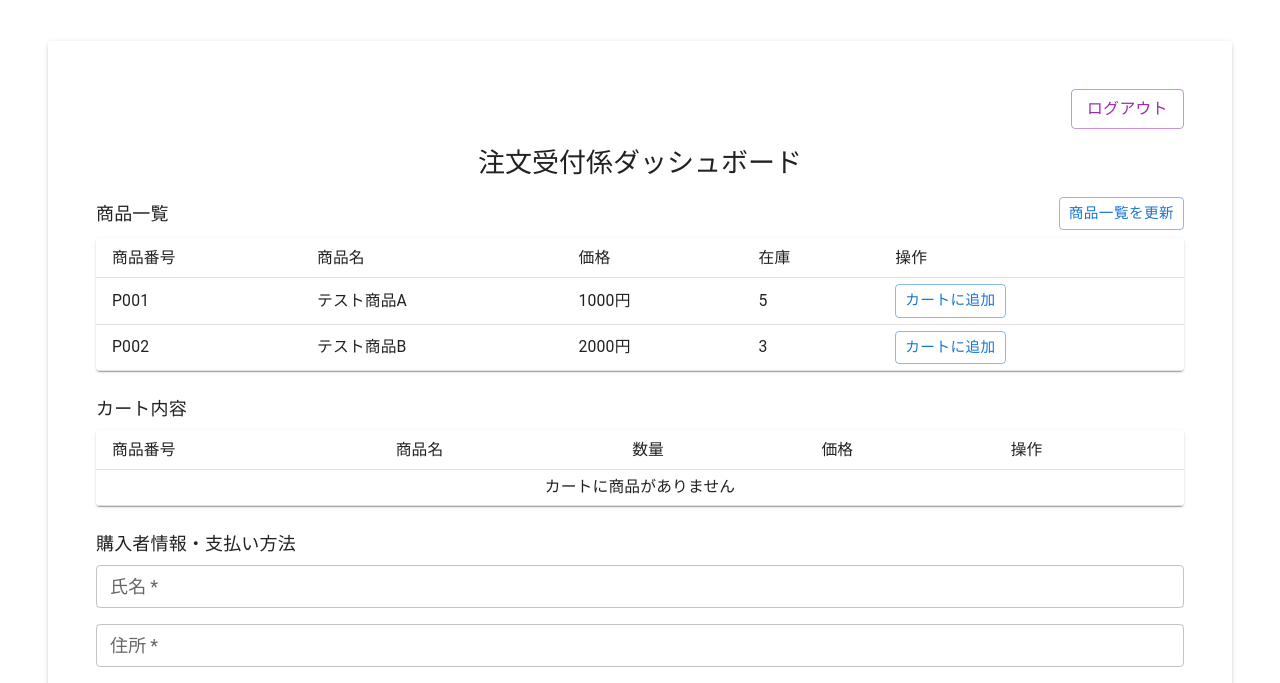
Test: OrderTakerDashboard › 必須項目未入力で注文確定するとエラー表示
expect the text "商品一覧" is shown: met, box [96,203,169,224]
expect the text "テスト商品A" is shown: met, box [301,278,562,324]
Click the button "カートに追加" in the row of "P001".
click(950, 301)  # box [895,284,1006,318]
(page scrolled)
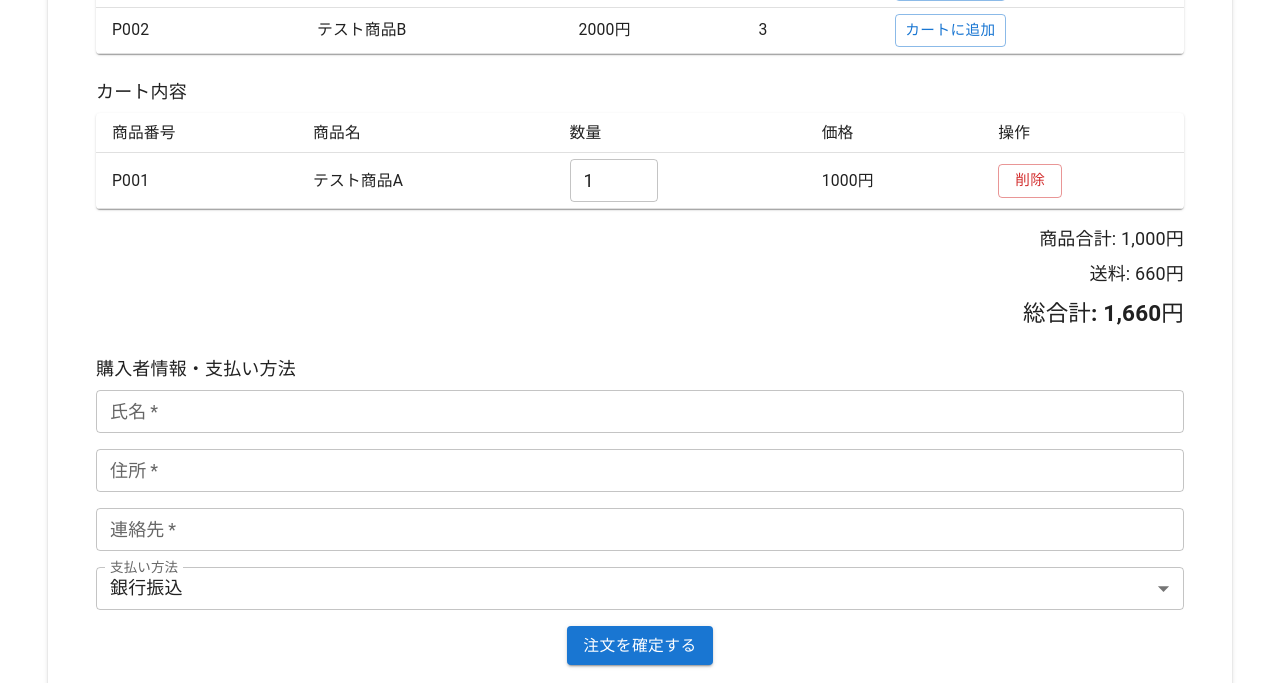
expect the text "購入者情報・支払い方法" is shown: met, box [96,358,296,379]
# 注文確定ボタンをクリック（購入者情報未入力）
Click the button "注文を確定する".
click(640, 646)  # box [567,626,713,665]
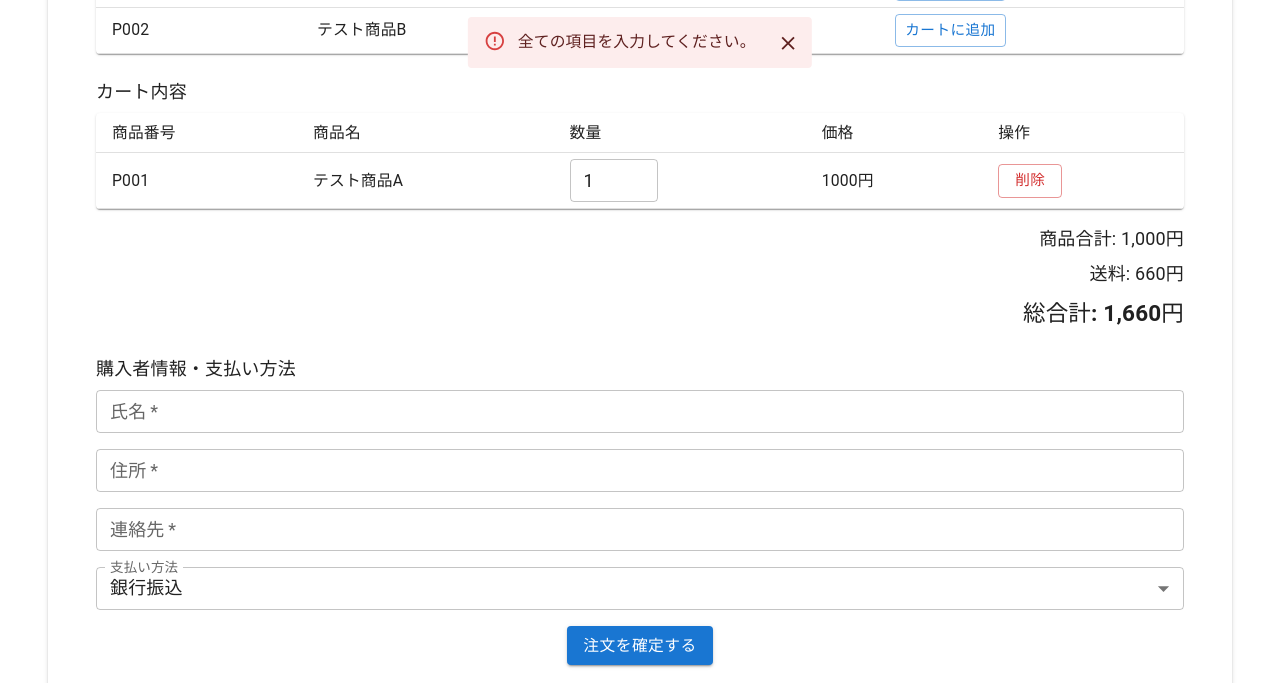
expect the message reads "全ての項目を入力してください。": met, box [518,32,756,51]
